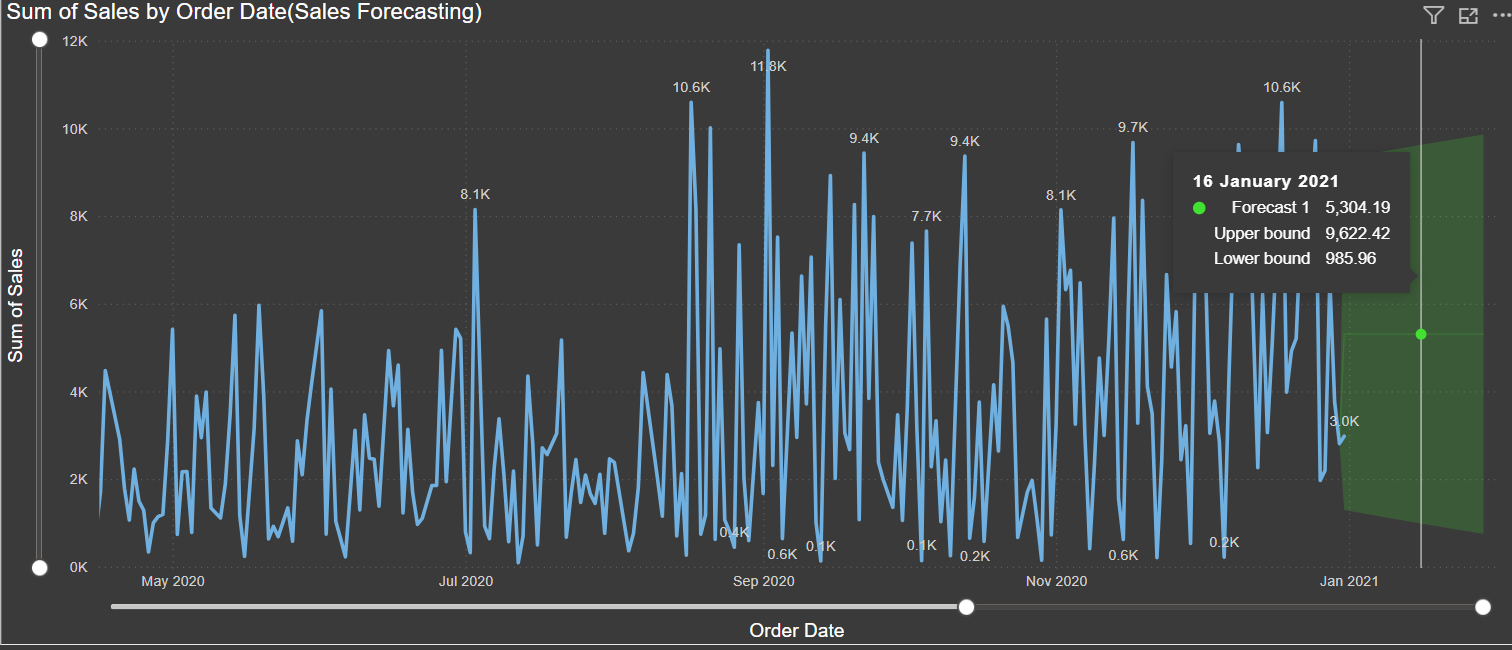

This screenshot's page, from the dashboard's own definition file:
{"tool":"powerbi","page":{"name":"Page 2","canvas":[1280,720],"ordinal":1},"visuals":[{"type":"lineChart","title":"Sum of Sales by Order Date(Sales Forecasting)","fields":{"Y":["Sum(SuperStore_Sales_Dataset.Sales)"],"Category":["SuperStore_Sales_Dataset.Order Date"]},"box":[17.4,166.3,1262.8,537.2],"z":0}]}

Visuals, with their boxes on the page's 1280x720 design canvas (x1, y1, x2, y2). These are canvas units, not pixel positions in the 1512x650 screenshot, which may show the page scaled, cropped or inside an application window:
"Sum of Sales by Order Date(Sales Forecasting)" lineChart: crop(17, 166, 1280, 704)
